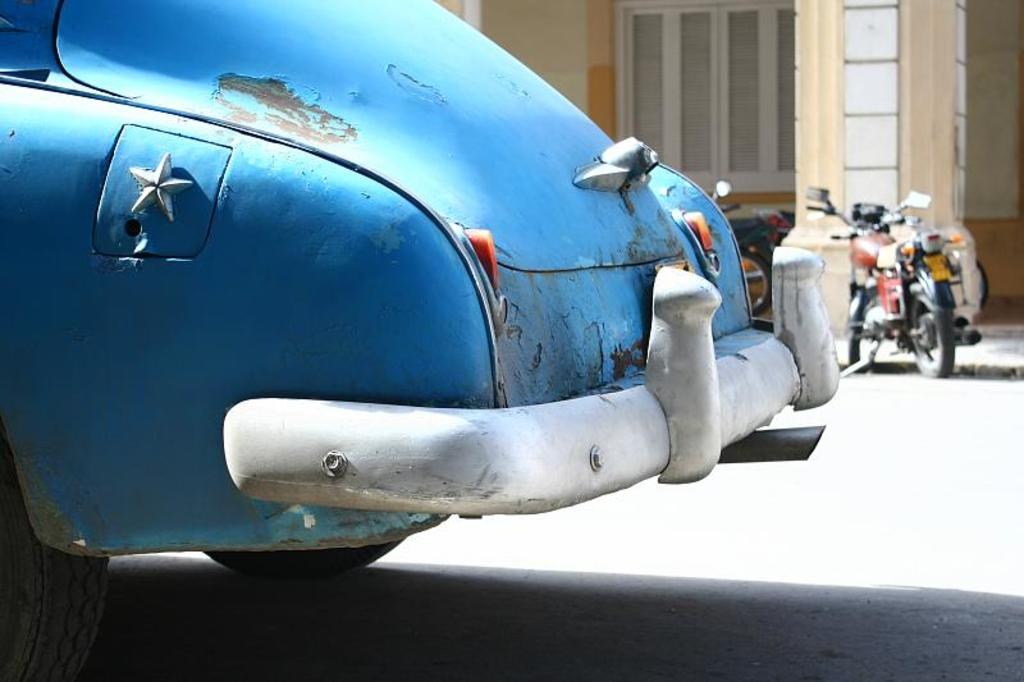Car: (0, 0, 840, 680)
